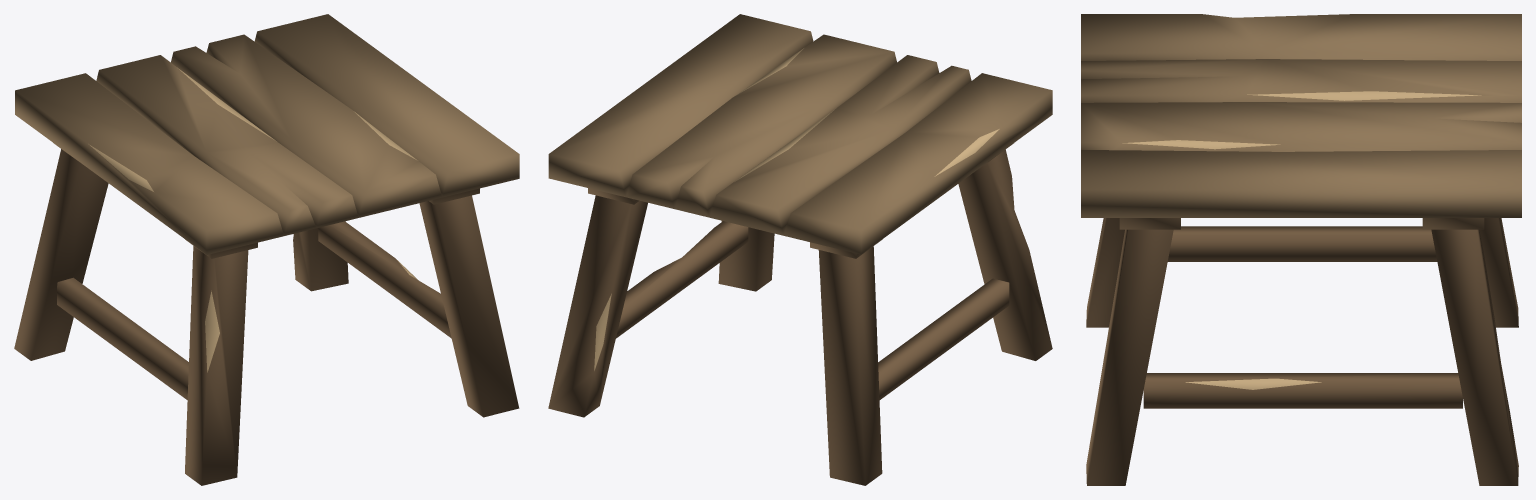
The model's file is rpgpp_ag_table_small_01.fbx.
3 renders of one model, left to right at view 1: azimuth 30°, elevation 25°; view 2: azimuth 150°, elevation 25°; view 3: azimuth 270°, elevation 25°, orthographic. The views are drawn at different scales.
Visible parts, largest first — view 1: rpgpp_ag_table_small_01; view 2: rpgpp_ag_table_small_01; view 3: rpgpp_ag_table_small_01.
Boxes of the visible parts, x1,y1,x2,y2 form: rpgpp_ag_table_small_01: (14,14,519,485); rpgpp_ag_table_small_01: (548,14,1052,485); rpgpp_ag_table_small_01: (1081,14,1521,485).
Bounding box in the file's own units: 1.04 × 0.8003 × 1.08.
